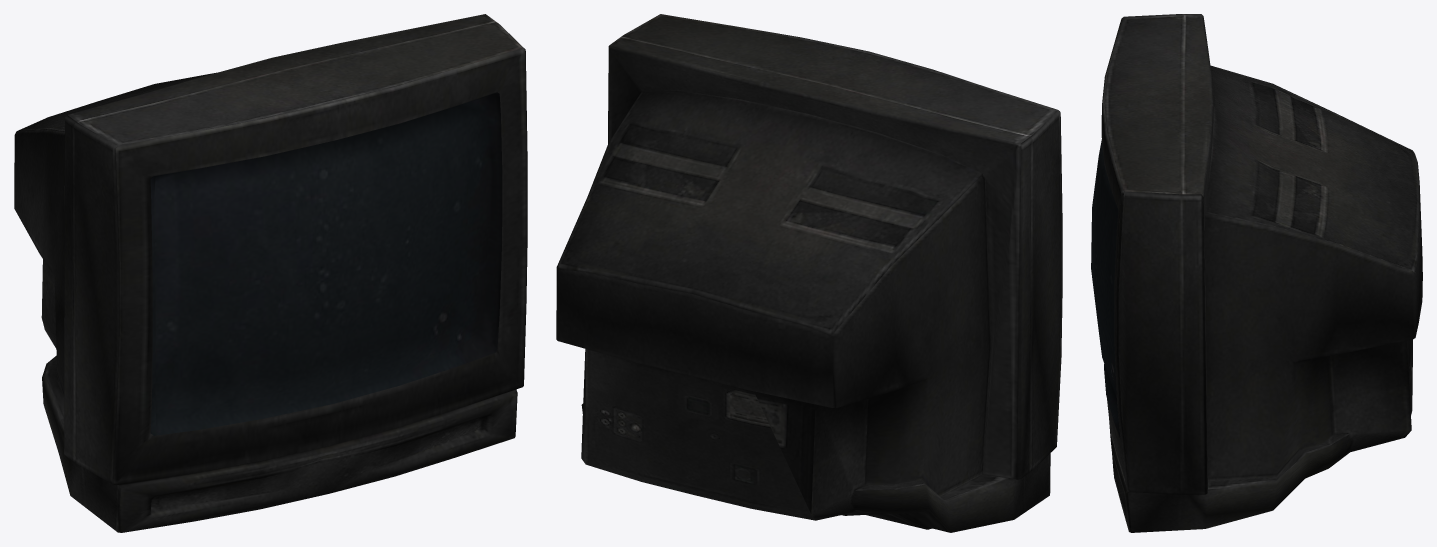
File: lounge-tv-v3.glb
The picture shows the model from 3 angles, left to right: view 1: azimuth 30°, elevation 25°; view 2: azimuth 150°, elevation 25°; view 3: azimuth 270°, elevation 25°; orthographic projection. The views are drawn at different scales.
Parts seen in each view (by area): view 1: mesh_tv, mesh_screen; view 2: mesh_tv; view 3: mesh_tv, mesh_screen.
Part boxes in pixels (<box>): mesh_tv: <box>14,14,527,532</box>; mesh_screen: <box>150,92,502,435</box>; mesh_tv: <box>556,14,1062,532</box>; mesh_tv: <box>1101,14,1422,532</box>; mesh_screen: <box>1091,139,1119,437</box>.
Size of the model in its own units: 0.407 by 0.3647 by 0.3143.
1 material, 1 textured.
